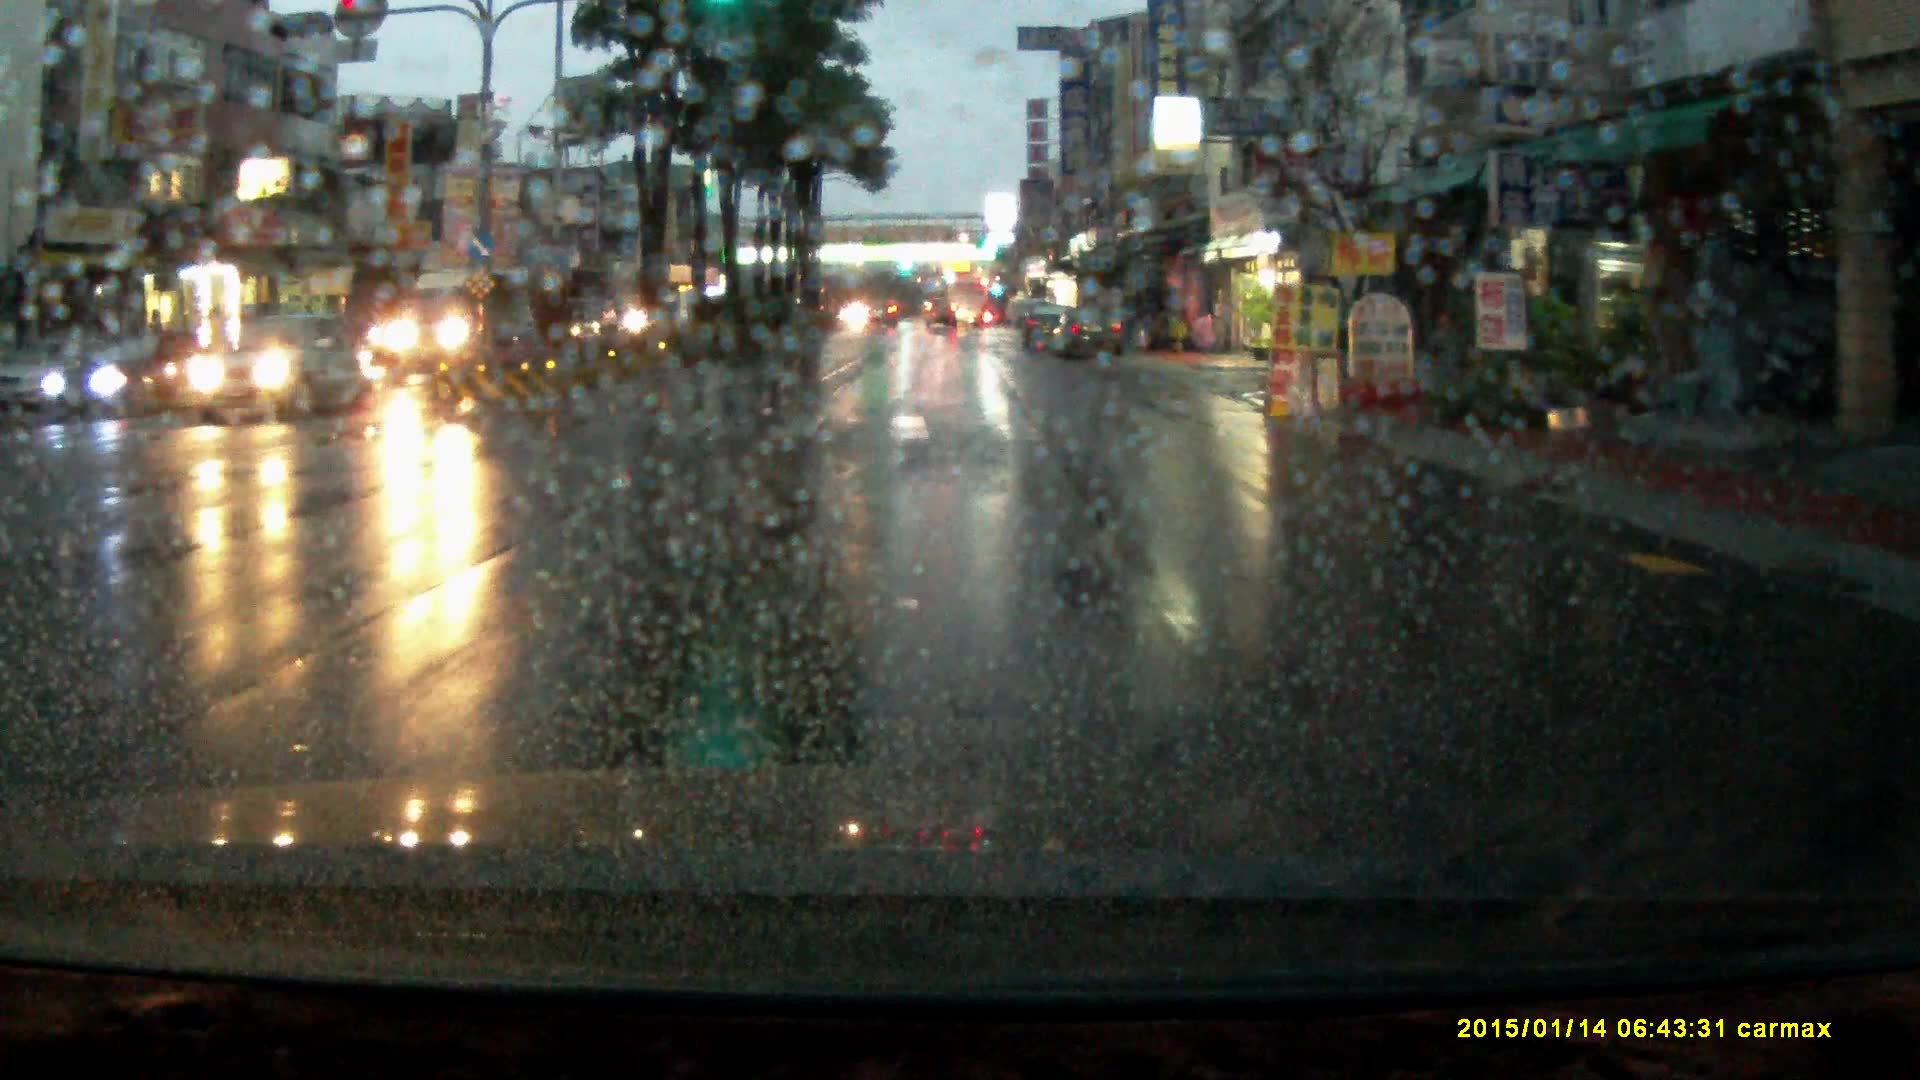vehicle: (185, 319, 378, 429), (384, 264, 527, 390), (32, 336, 178, 423), (3, 336, 94, 414), (1054, 307, 1129, 363), (1022, 303, 1073, 353), (948, 273, 988, 328), (927, 297, 959, 334), (865, 299, 899, 331)
